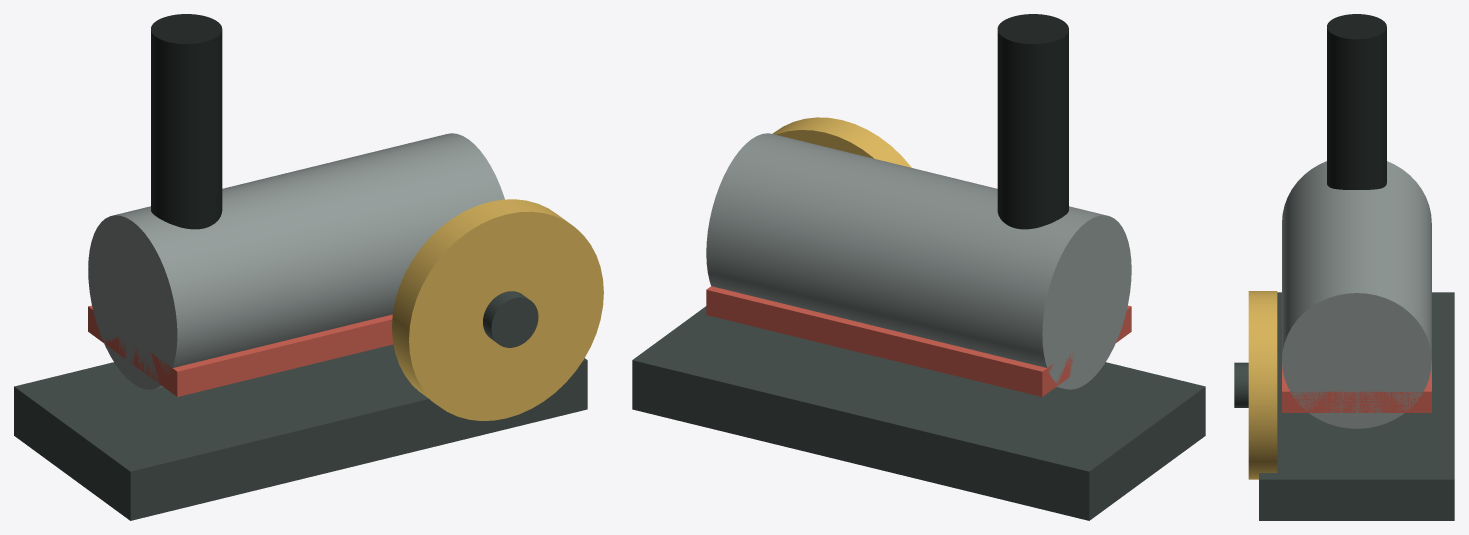
The model's file is engine.glb.
3 renders of one model, left to right at view 1: azimuth 30°, elevation 25°; view 2: azimuth 150°, elevation 25°; view 3: azimuth 270°, elevation 25°, orthographic. The views are drawn at different scales.
Size of the model in its own units: 3.47 by 3 by 1.69.
